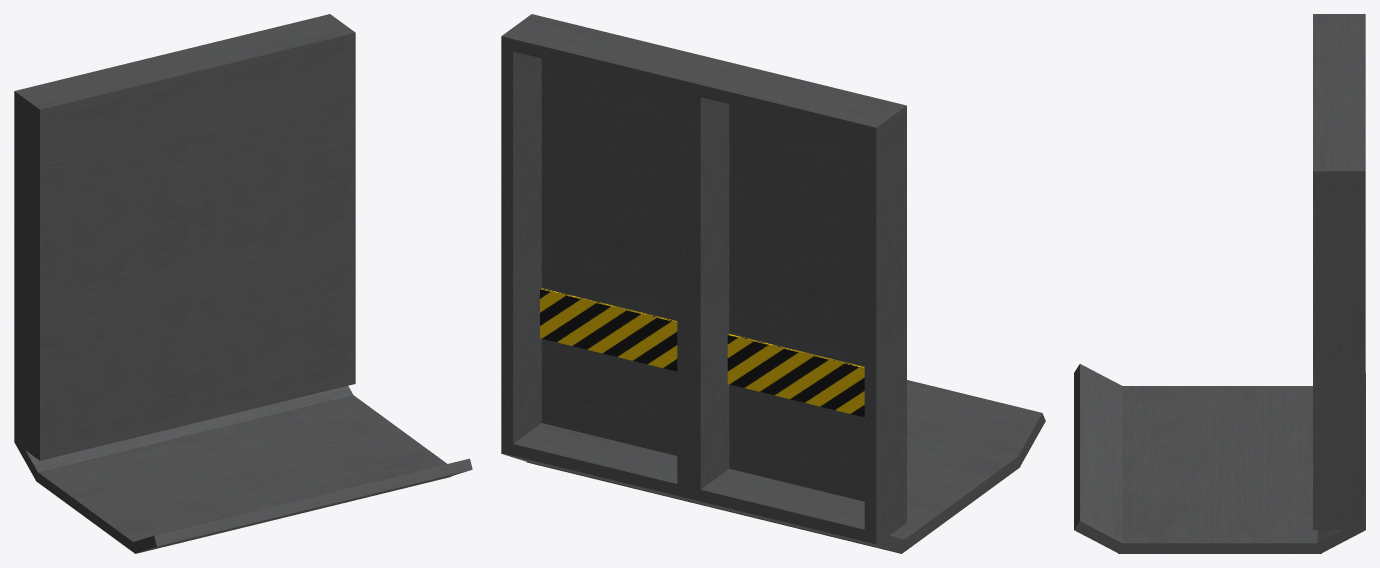
The model's file is metal_bridge_right.obj.
The picture shows the model from 3 angles, left to right: view 1: azimuth 30°, elevation 25°; view 2: azimuth 150°, elevation 25°; view 3: azimuth 270°, elevation 25°; orthographic projection. The views are drawn at different scales.
Visible parts, largest first — view 1: cube; view 2: cube; view 3: cube.
Part boxes in pixels (left/top/right/bottom): cube: left=14, top=14, right=472, bottom=553; cube: left=501, top=14, right=1045, bottom=553; cube: left=1074, top=14, right=1365, bottom=553.
Bounding box in the file's own units: 2 × 2.27 × 1.57.
2 materials, 2 textured.
